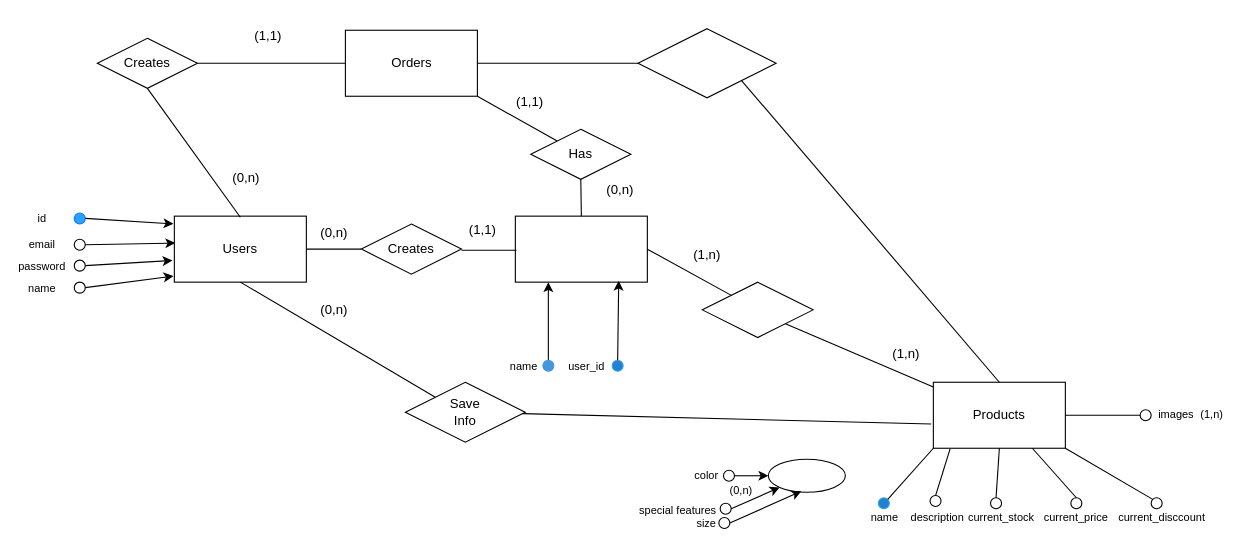
Image size: 1253x559. Some labels were removed from this diagram. The box of each missing label's shape, as (x1, y1, x2, y2) in pixels:
Contains: (637, 28, 776, 98)
Create: (701, 281, 813, 338)
extras: (767, 458, 845, 492)
Stores: (514, 215, 647, 282)
